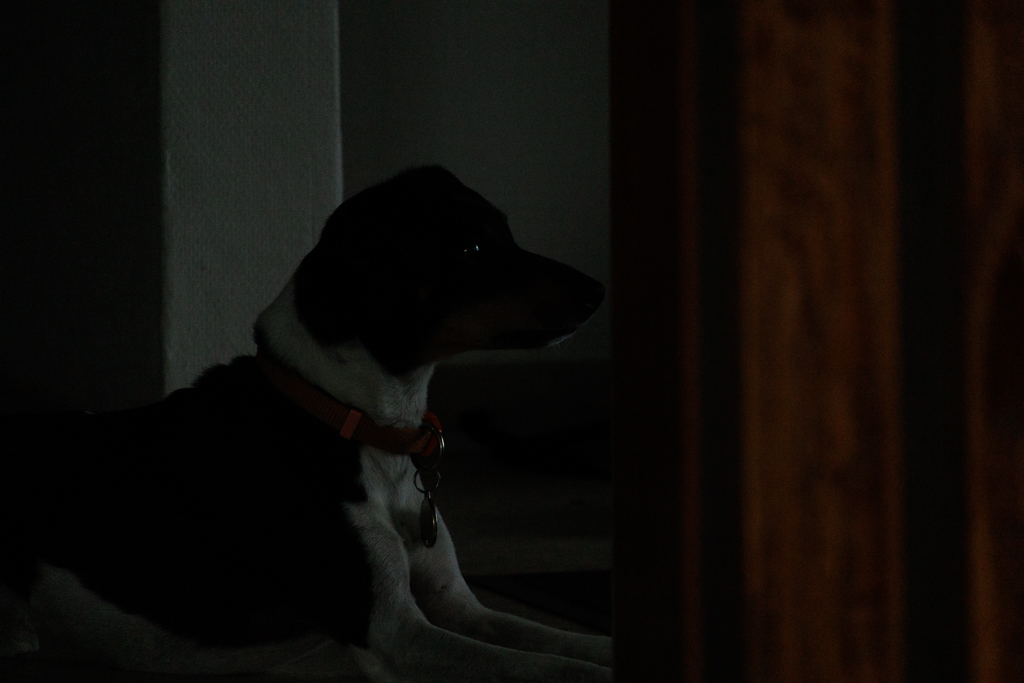Dog: (0, 154, 627, 683)
